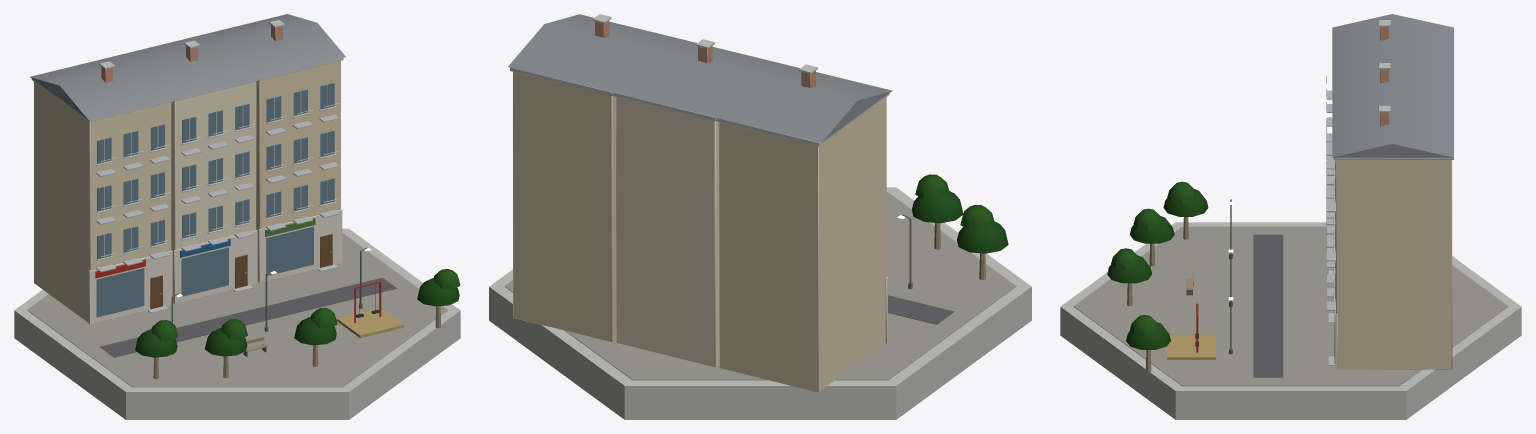
Rendered from housing_asia.glb.
The picture shows the model from 3 angles, left to right: view 1: azimuth 30°, elevation 25°; view 2: azimuth 150°, elevation 25°; view 3: azimuth 270°, elevation 25°; orthographic projection. The views are drawn at different scales.
Parts seen in each view (by area): view 1: plaster, pavers, wall_concrete, glass, roof_slate, stone, leaf, metal, asphalt, wood, paint, sandbag (+2 smaller); view 2: plaster, wall_concrete, roof_slate, pavers, leaf, asphalt, brick; view 3: pavers, plaster, wall_concrete, roof_slate, leaf, asphalt, metal, sandbag, wood.
Part boxes in pixels (box(x1,y1,x2,y2)): plaster: box(34, 60, 340, 322); pavers: box(27, 233, 447, 387); wall_concrete: box(14, 20, 460, 419); glass: box(96, 83, 334, 317); roof_slate: box(30, 14, 345, 119); stone: box(88, 209, 342, 324); leaf: box(135, 269, 460, 357); metal: box(96, 103, 339, 272); asphalt: box(100, 277, 396, 357); wood: box(150, 234, 441, 379); paint: box(95, 218, 381, 322); sandbag: box(336, 308, 404, 338); plaster: box(513, 72, 886, 392); wall_concrete: box(489, 14, 1031, 419); roof_slate: box(508, 14, 892, 142); pavers: box(504, 192, 1016, 380); leaf: box(912, 174, 1008, 253); asphalt: box(888, 295, 954, 324); brick: box(595, 21, 815, 87); pavers: box(1073, 226, 1508, 386); plaster: box(1336, 160, 1452, 369); wall_concrete: box(1060, 20, 1521, 419); roof_slate: box(1332, 14, 1453, 157); leaf: box(1107, 181, 1208, 349); asphalt: box(1253, 234, 1283, 377); metal: box(1326, 75, 1335, 310); sandbag: box(1167, 335, 1215, 359); wood: box(1127, 217, 1334, 372).
Bounding box in the file's own units: 21.3 × 15.9 × 24.6.
